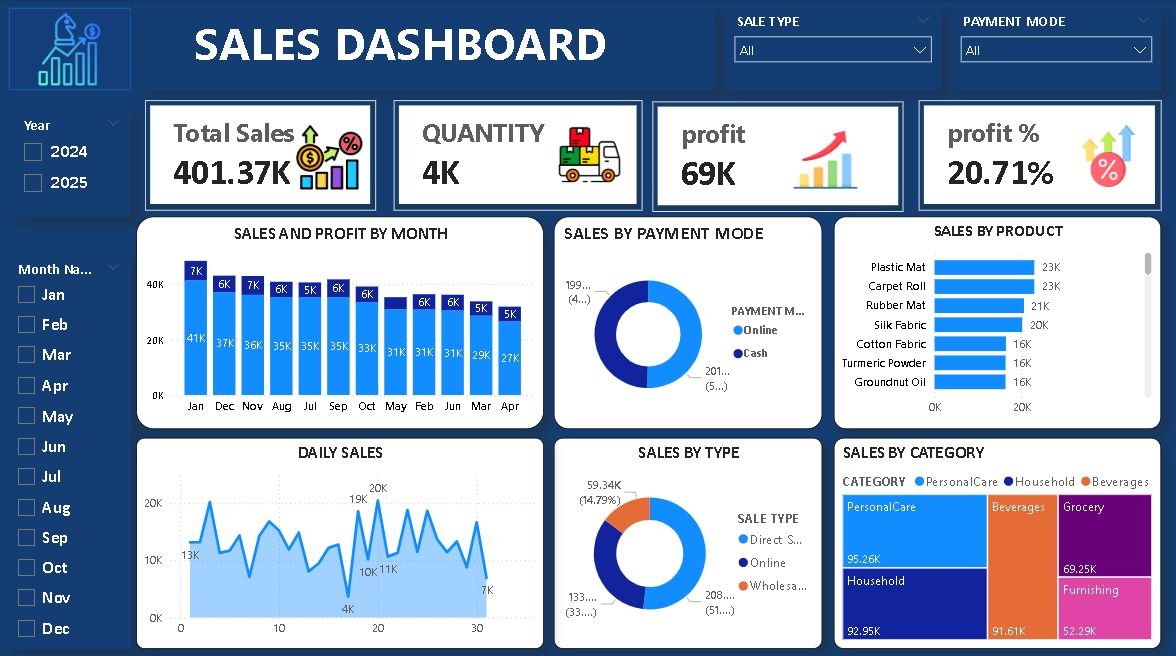

The page's visual inventory and layout, read from the dashboard file:
{"tool":"powerbi","page":{"name":"Page 1","canvas":[1280,720],"ordinal":0},"visuals":[{"type":"shape","box":[9.5,9.5,133.2,89.7],"z":0},{"type":"textbox","box":[157.7,9.5,619.8,89.7],"z":1000},{"type":"slicer","fields":{"Values":["InputData.Year"]},"box":[13.6,122.3,129.1,114.2],"z":2000},{"type":"slicer","fields":{"Values":["InputData.SALE TYPE"]},"box":[788.3,9.5,235.1,89.7],"z":3000},{"type":"slicer","fields":{"Values":["InputData.PAYMENT MODE"]},"box":[1034.3,9.5,228.3,89.7],"z":4000},{"type":"slicer","fields":{"Values":["InputData.Month Name"]},"box":[6.8,278.6,135.9,428.1],"z":5000},{"type":"cardVisual","fields":{"Data":["Sum(InputData.Total Selling Value)"]},"box":[157.7,110.1,251.4,119.6],"z":6000},{"type":"cardVisual","fields":{"Data":["Sum(InputData.QUANTITY)"]},"box":[428.1,110.1,270.5,119.6],"z":7000},{"type":"cardVisual","fields":{"Data":["InputData.profit"]},"box":[709.5,111.4,273.2,119.6],"z":8000},{"type":"cardVisual","fields":{"Data":["InputData.profit %"]},"box":[998.9,110.1,263.7,119.6],"z":9000},{"type":"image","box":[322.1,134.6,72,74.8],"z":10000},{"type":"image","box":[592.6,134.6,96.5,69.3],"z":11000},{"type":"image","box":[1166.1,135.9,77.5,69.3],"z":12000},{"type":"columnChart","title":"SALES AND PROFIT BY MONTH","fields":{"Category":["InputData.Month Name"],"Y":["Sum(InputData.Total Selling Value)","InputData.profit"]},"box":[148.1,236.5,443.1,231],"z":13000},{"type":"donutChart","title":"SALES BY PAYMENT MODE","fields":{"Category":["InputData.PAYMENT MODE"],"Y":["Sum(InputData.Total Selling Value)"]},"box":[602.1,236.5,292.2,231],"z":14000},{"type":"clusteredBarChart","title":" SALES BY PRODUCT","fields":{"Category":["InputData.PRODUCT"],"Y":["Sum(InputData.Total Selling Value)"]},"box":[906.5,236.5,356.1,231],"z":15000},{"type":"donutChart","title":" SALES BY TYPE","fields":{"Y":["Sum(InputData.Total Selling Value)"],"Category":["InputData.SALE TYPE"]},"box":[602.1,477,292.2,229.7],"z":16000},{"type":"areaChart","title":"DAILY SALES","fields":{"Y":["Sum(InputData.Total Selling Value)"],"Category":["InputData.Day"]},"box":[148.1,477,443.1,229.7],"z":17000},{"type":"treemap","title":"SALES BY CATEGORY","fields":{"Values":["Sum(InputData.Total Selling Value)"],"Group":["MasterData.CATEGORY"]},"box":[906.5,477,356.1,229.7],"z":18000},{"type":"image","box":[846.7,140,101.9,69.3],"z":20000},{"type":"image","box":[16.3,15,118.2,78.8],"z":21000}]}

Visuals, with their boxes in screenshot pixels (x1, y1, x2, y2), scaled from the page's 1280x720 canvas onto the 1176x656 screenshot:
shape: [left=9, top=9, right=131, bottom=90]
textbox: [left=145, top=9, right=714, bottom=90]
slicer - InputData.Year: [left=12, top=111, right=131, bottom=215]
slicer - InputData.SALE TYPE: [left=724, top=9, right=940, bottom=90]
slicer - InputData.PAYMENT MODE: [left=950, top=9, right=1160, bottom=90]
slicer - InputData.Month Name: [left=6, top=254, right=131, bottom=644]
cardVisual - Sum(InputData.Total Selling Value): [left=145, top=100, right=376, bottom=209]
cardVisual - Sum(InputData.QUANTITY): [left=393, top=100, right=642, bottom=209]
cardVisual - InputData.profit: [left=652, top=101, right=903, bottom=210]
cardVisual - InputData.profit %: [left=918, top=100, right=1160, bottom=209]
image: [left=296, top=123, right=362, bottom=191]
image: [left=544, top=123, right=633, bottom=186]
image: [left=1071, top=124, right=1143, bottom=187]
"SALES AND PROFIT BY MONTH" columnChart: [left=136, top=215, right=543, bottom=426]
"SALES BY PAYMENT MODE" donutChart: [left=553, top=215, right=822, bottom=426]
" SALES BY PRODUCT" clusteredBarChart: [left=833, top=215, right=1160, bottom=426]
" SALES BY TYPE" donutChart: [left=553, top=435, right=822, bottom=644]
"DAILY SALES" areaChart: [left=136, top=435, right=543, bottom=644]
"SALES BY CATEGORY" treemap: [left=833, top=435, right=1160, bottom=644]
image: [left=778, top=128, right=872, bottom=191]
image: [left=15, top=14, right=124, bottom=85]
